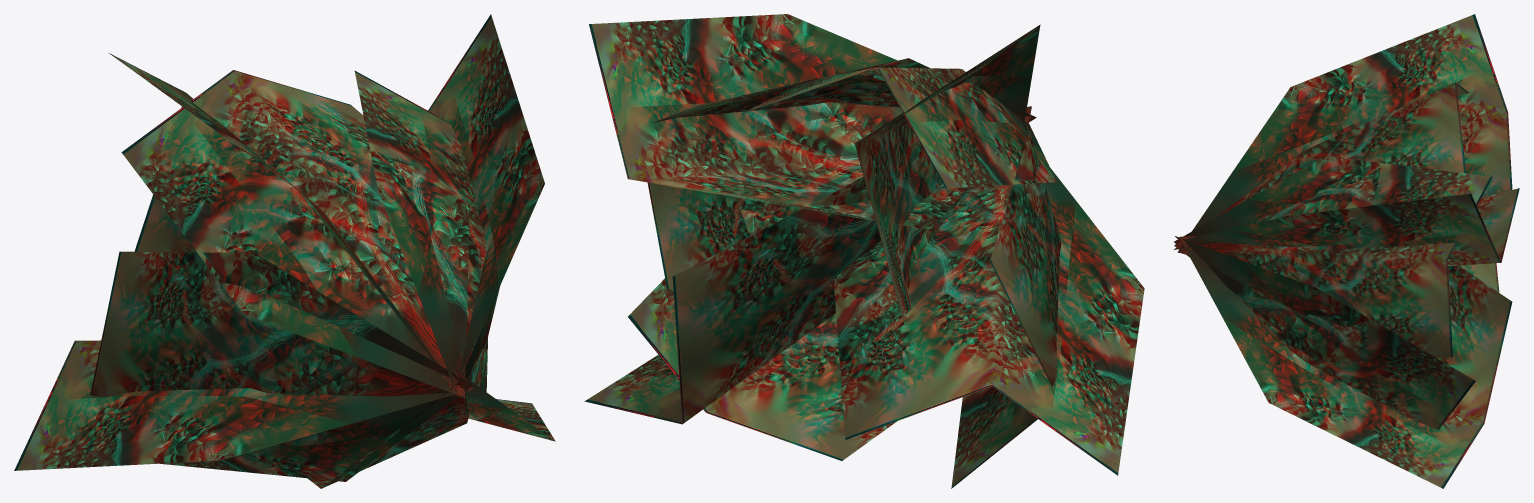
File: Bush_06_03.fbx
3 renders of one model, left to right at view 1: azimuth 30°, elevation 25°; view 2: azimuth 150°, elevation 25°; view 3: azimuth 270°, elevation 25°, orthographic. The views are drawn at different scales.
Visible parts, largest first — view 1: Bush_06_03; view 2: Bush_06_03; view 3: Bush_06_03.
Part boxes in pixels (x1,y1,x2,y2): Bush_06_03: [14, 14, 555, 488]; Bush_06_03: [584, 14, 1144, 488]; Bush_06_03: [1174, 14, 1519, 488].
Bounding box in the file's own units: 4.02 × 3.24 × 3.11.
